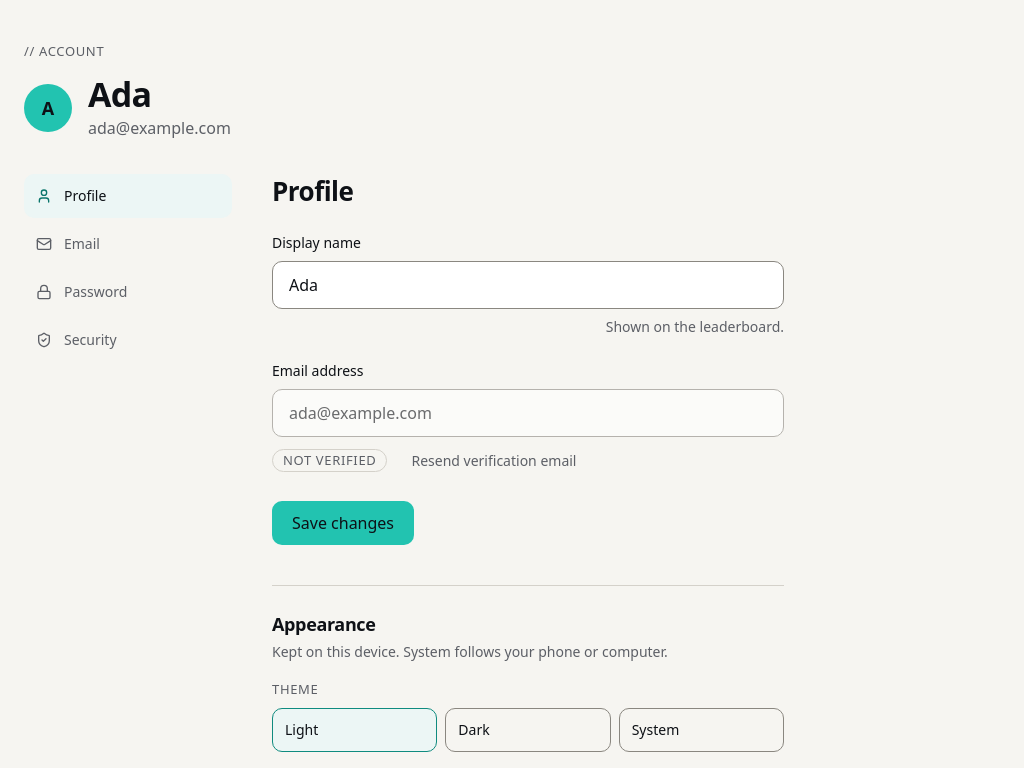
it: Profile page › checks the password form before asking the server, field by field
The image size is (1024, 768).
Click the button "Password" at (128, 292), box [24,270,232,314]
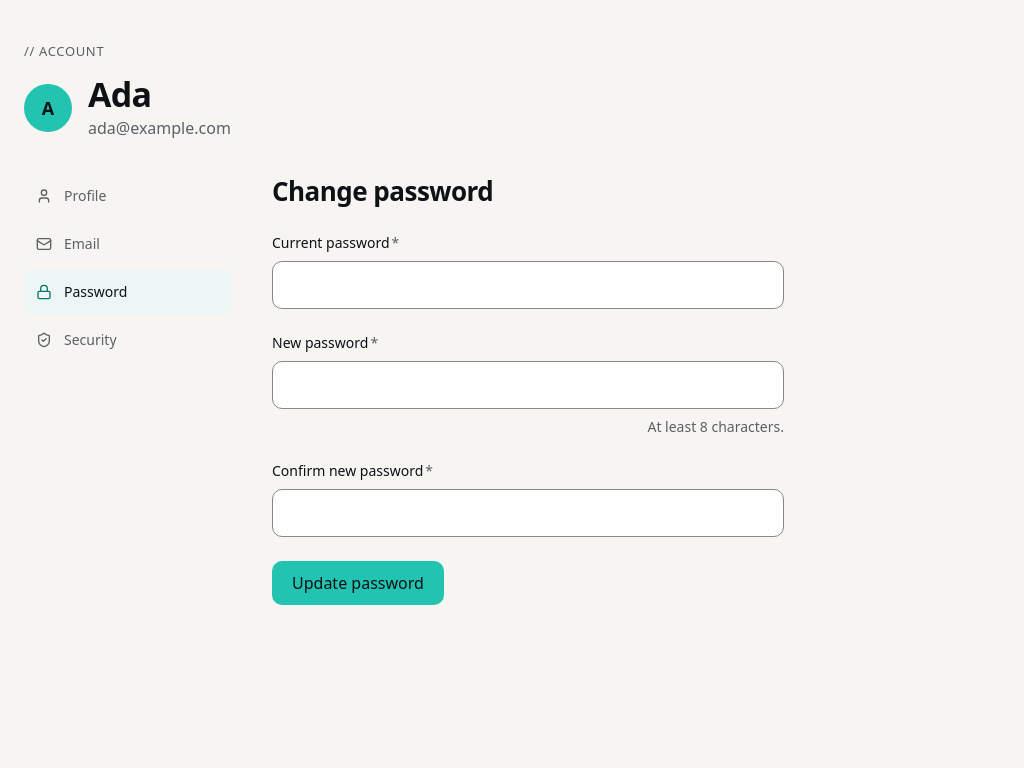
Click the button "Update password" at (358, 583), box [272,561,444,605]
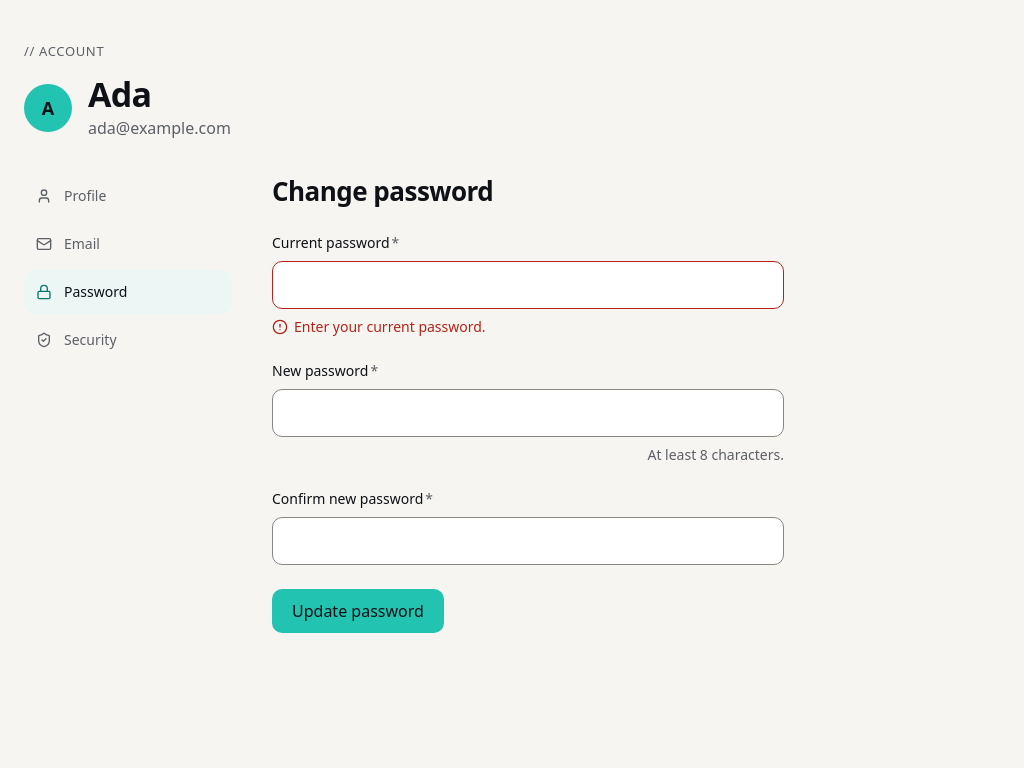
Result: the text "Enter your current password." is shown at [272,317,486,337]
Type "old-password" into the password field labelled "Current password*" at (528, 285), box [272,261,784,309]
Type "short" into the password field labelled "New password*" at (528, 413), box [272,389,784,437]
Click the button "Update password" at (358, 611), box [272,589,444,633]
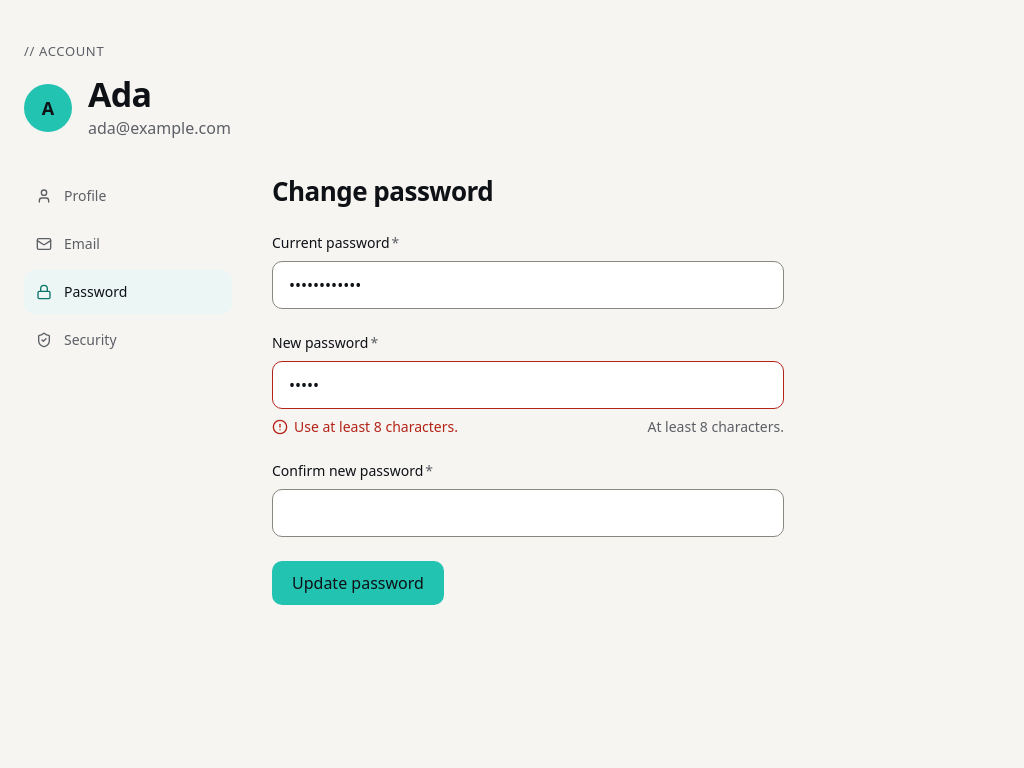
Result: the text "Use at least 8 characters." is shown at [272,417,458,437]
Type "long-enough-1" into the password field labelled "New password*" at (528, 385), box [272,361,784,409]
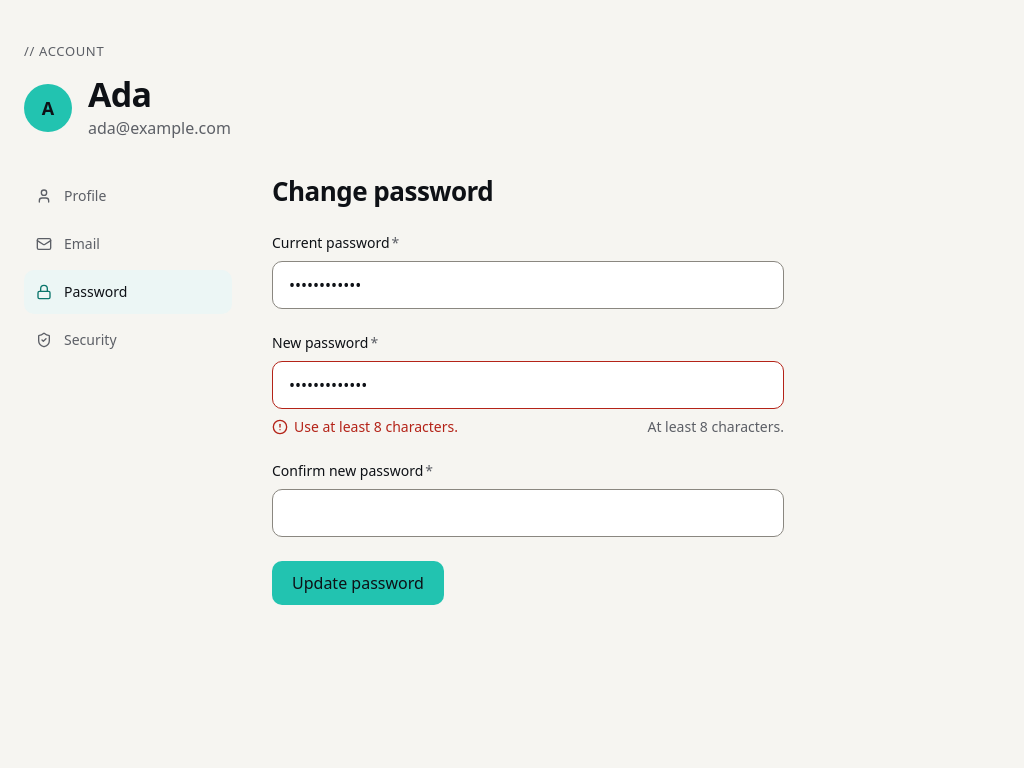
Type "different-1" into the password field labelled "Confirm new password*" at (528, 513), box [272,489,784,537]
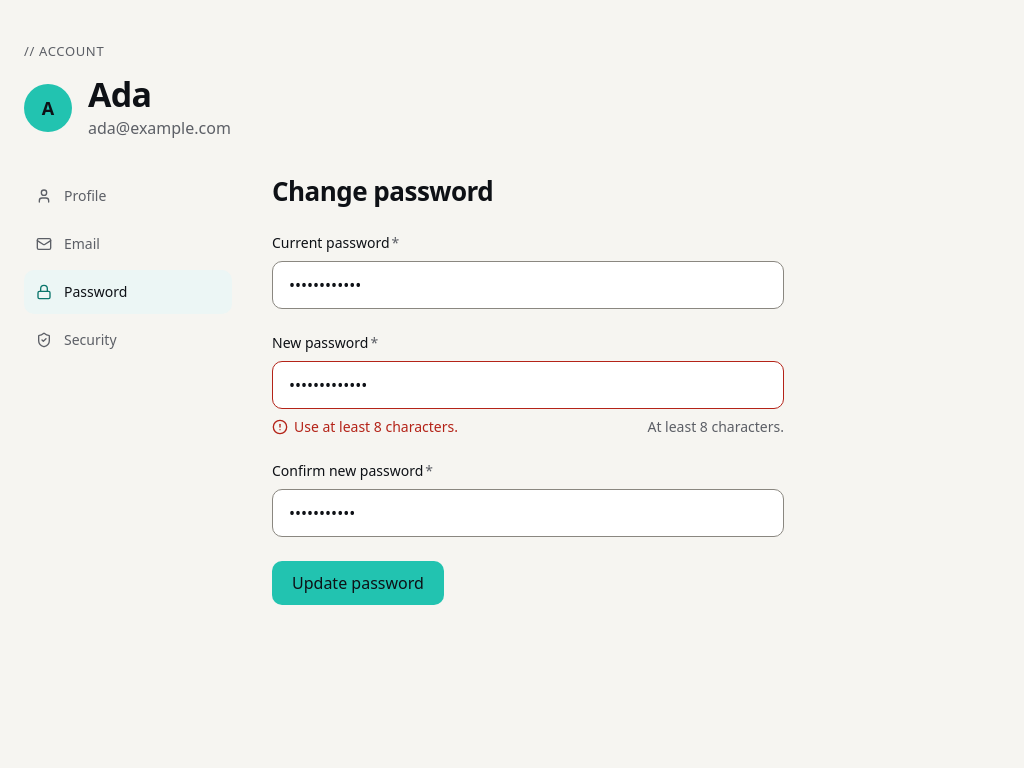
Click the button "Update password" at (358, 583), box [272,561,444,605]
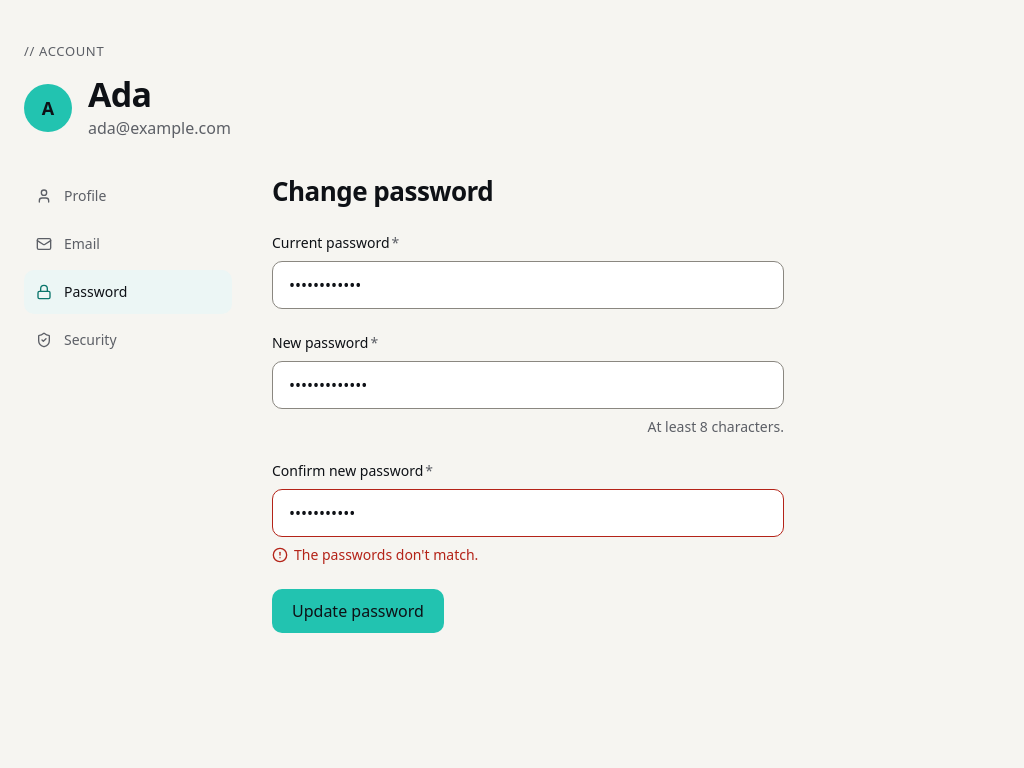
Result: the text "The passwords don't match." is shown at [272,545,478,565]
